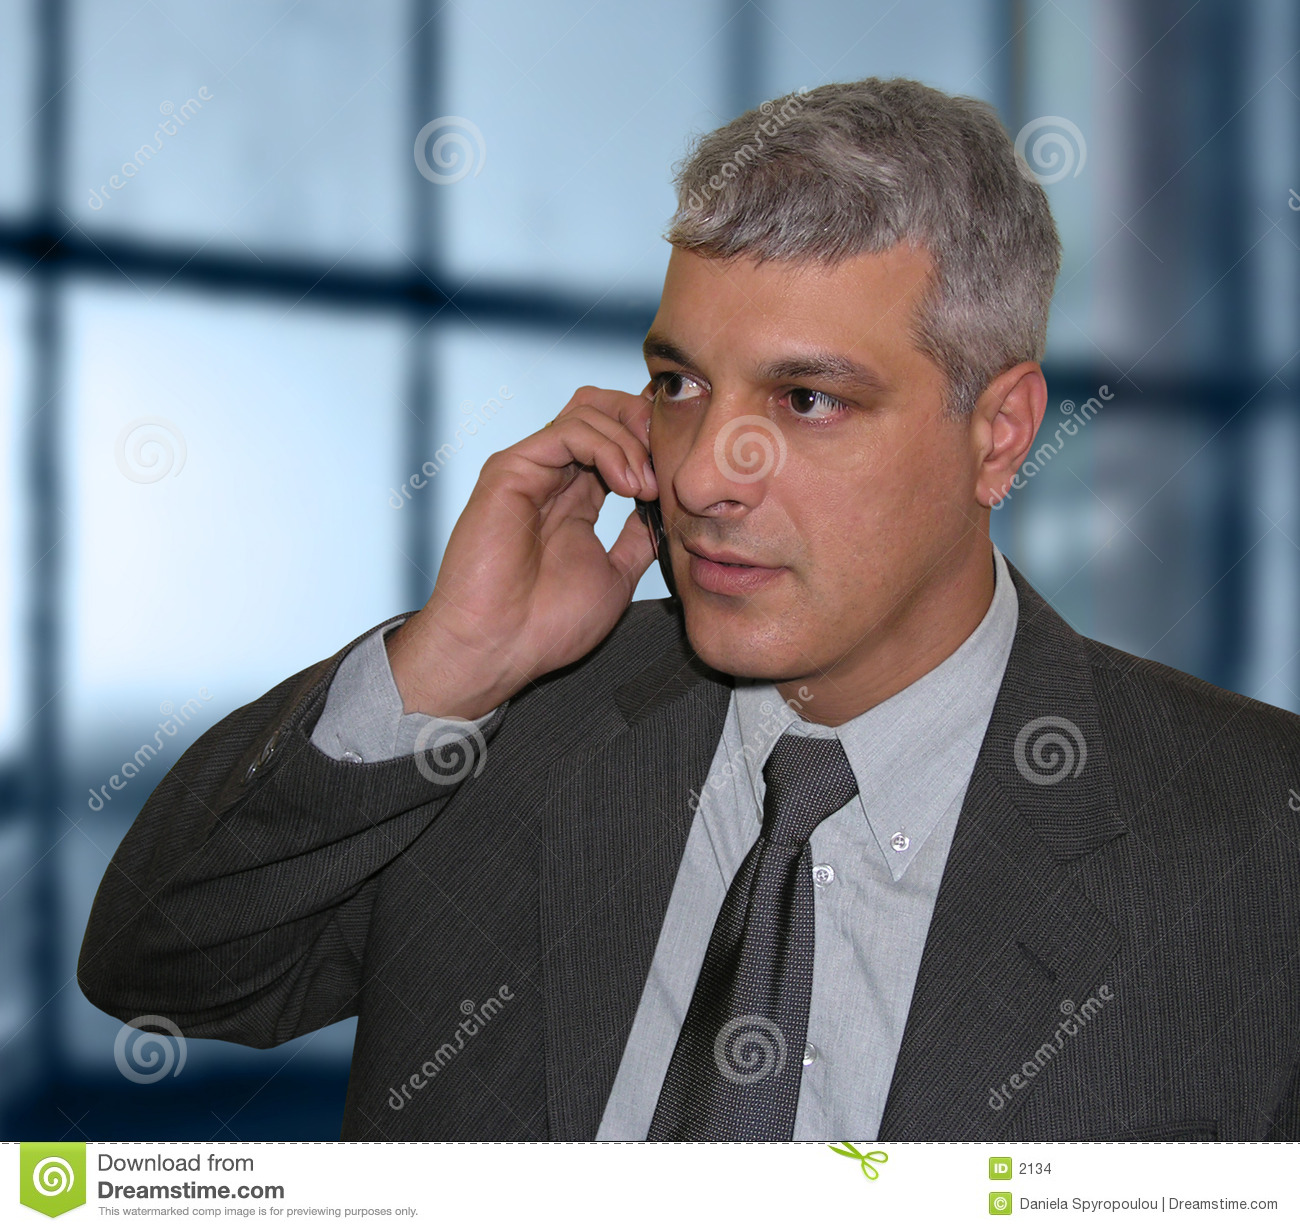talk: (427, 308, 909, 693)
